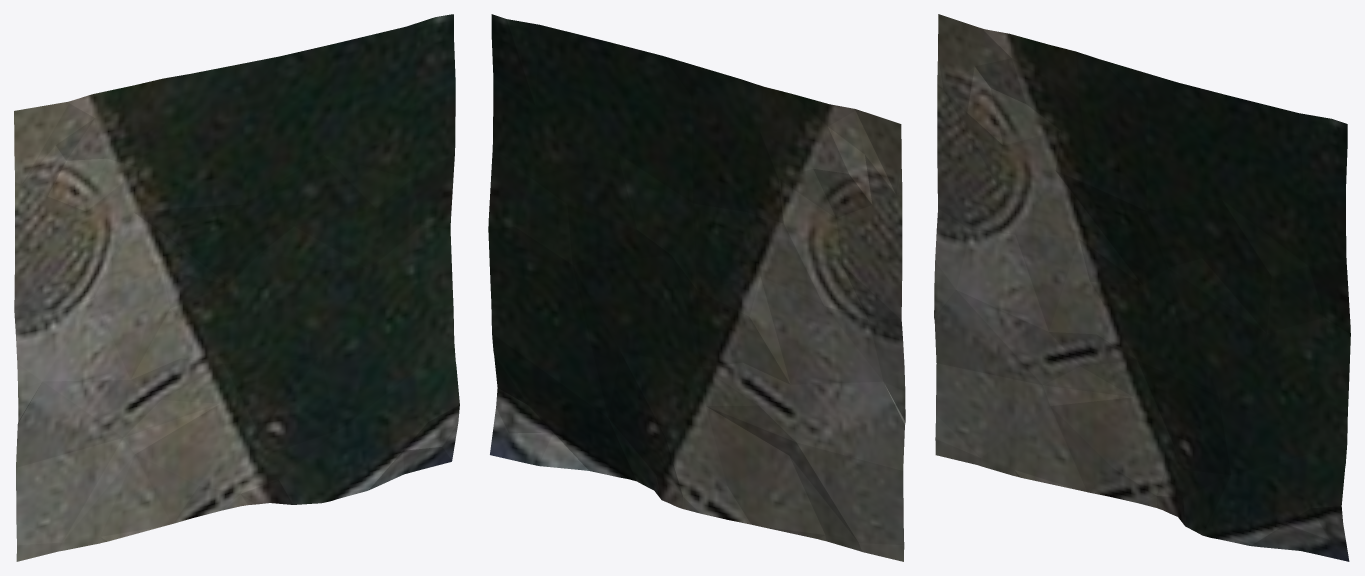
File: Tile_+004_+006_L23_000203.obj
3 renders of one model, left to right at view 1: azimuth 30°, elevation 25°; view 2: azimuth 150°, elevation 25°; view 3: azimuth 330°, elevation 25°, orthographic. The views are drawn at different scales.
Bounding box in the file's own units: 1.91 × 1.91 × 0.1508.
